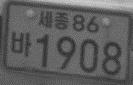0: (78, 38, 98, 73)
1: (34, 31, 50, 69)
6: (85, 14, 99, 33)
8: (102, 40, 122, 76), (71, 13, 85, 31)
9: (55, 34, 76, 69)
바: (10, 29, 32, 58)
세종_H: (37, 9, 69, 30)
